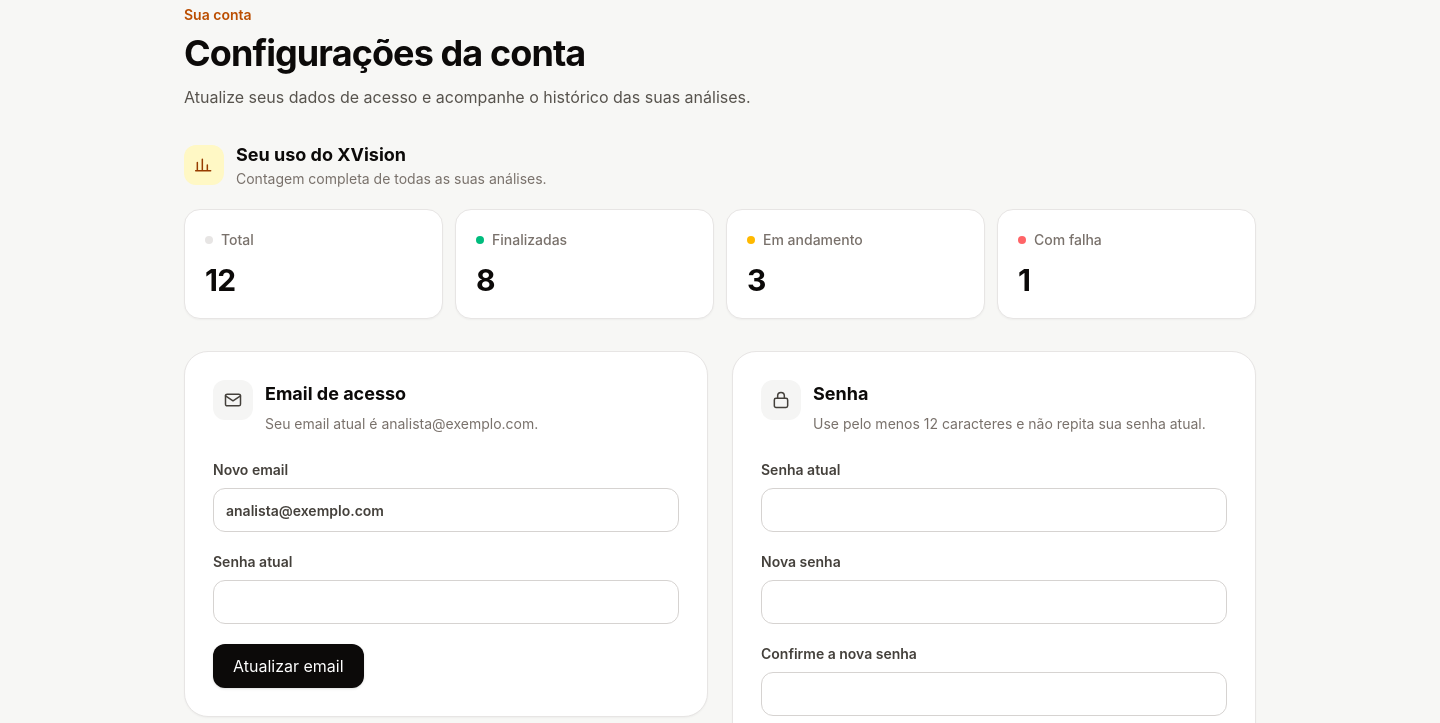
Scenario: Account › nao envia senhas novas que nao coincidem
The image size is (1440, 723).
In the 1st password field labelled "Senha atual": (994, 510) [761,488,1227,532], type "senha-atual-bem-longa"
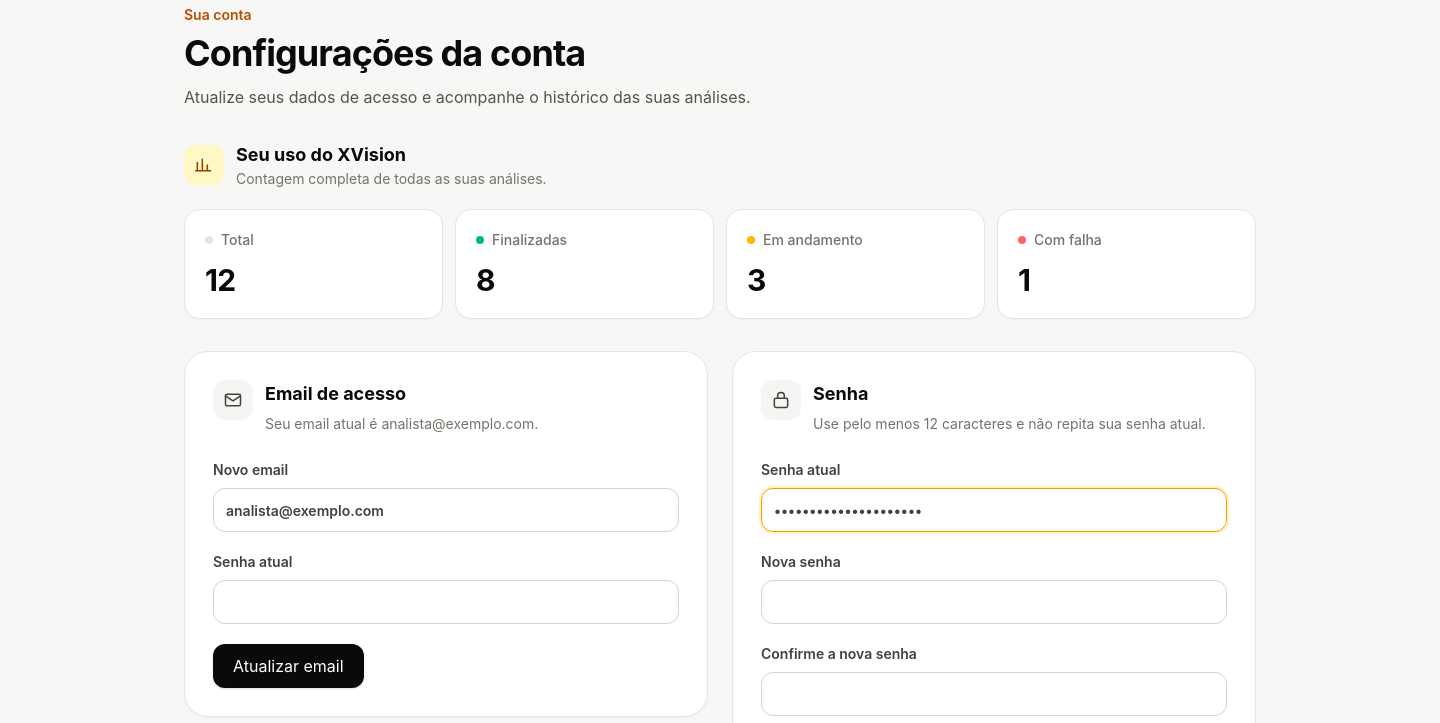
In the password field labelled "Nova senha": (994, 602) [761,580,1227,624], type "uma-nova-senha-bem-longa"
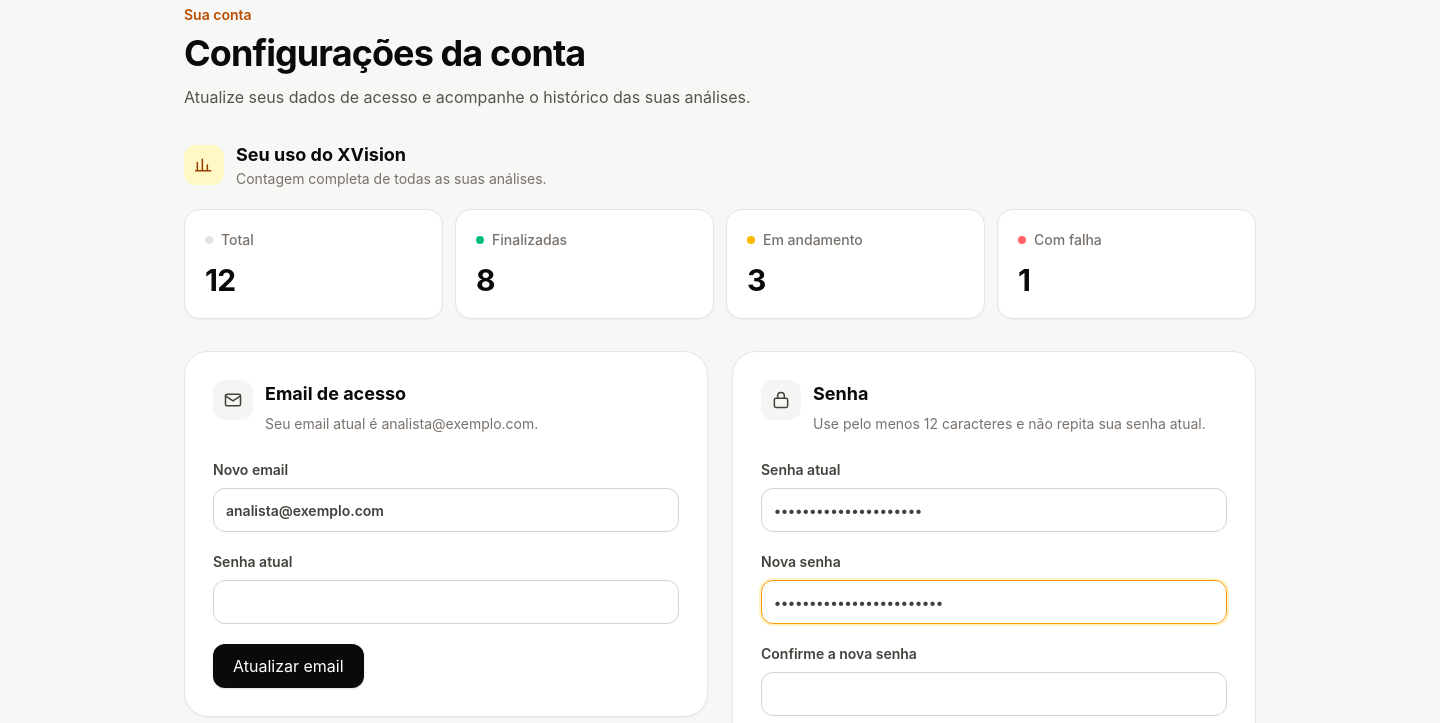
In the password field labelled "Confirme a nova senha": (994, 694) [761,672,1227,716], type "uma-senha-diferente"
(page scrolled)
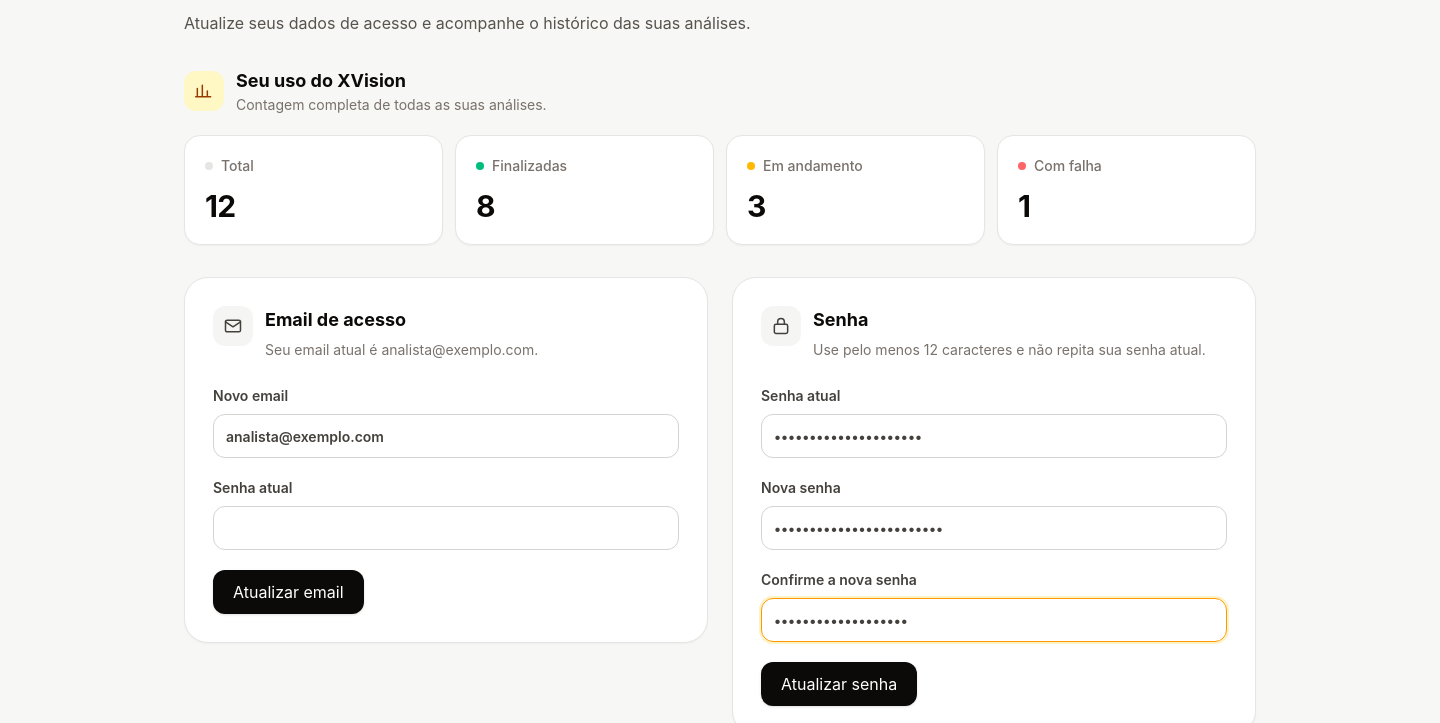
Click the button "Atualizar senha": (839, 684) [761,662,917,706]
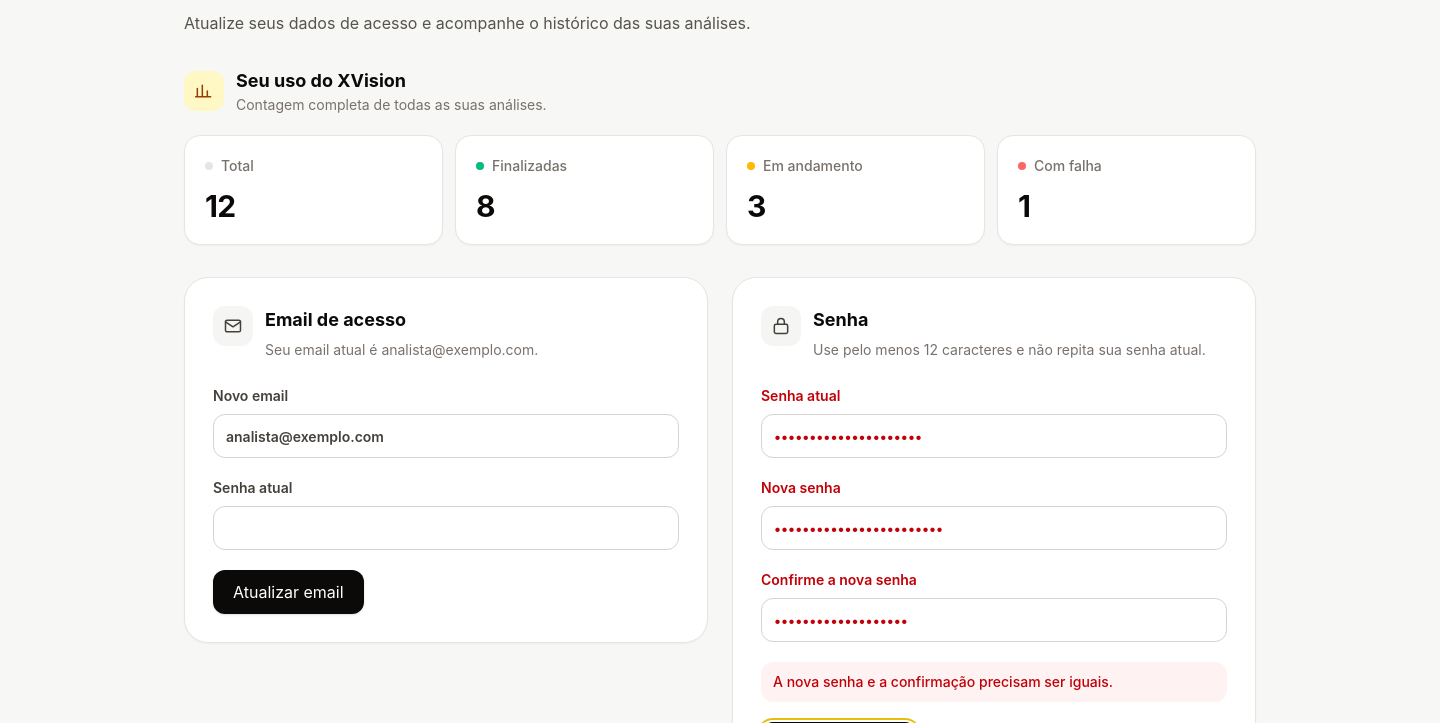
expect the message shows "precisam ser iguais": met, box [773,673,1113,690]
